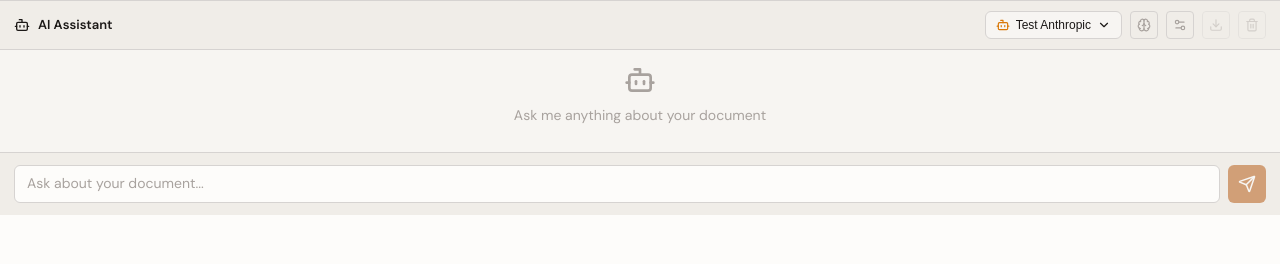
Test: AIChat › Streaming › shows streaming content during response
Type "Test" into the text box with placeholder "Ask about your document..." at point(617, 184), box [14,165,1220,203]
Then press Enter
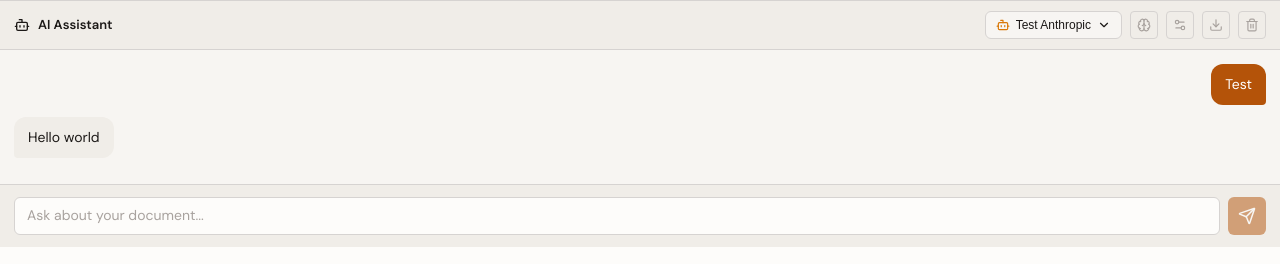
Expected: the text "Hello world" is shown, [28,127,100,148]
